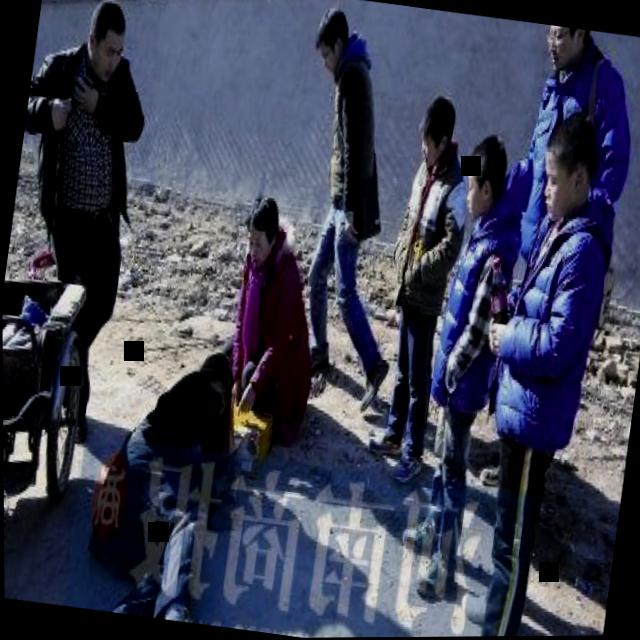Fall-Detected: (67, 301, 278, 630)
